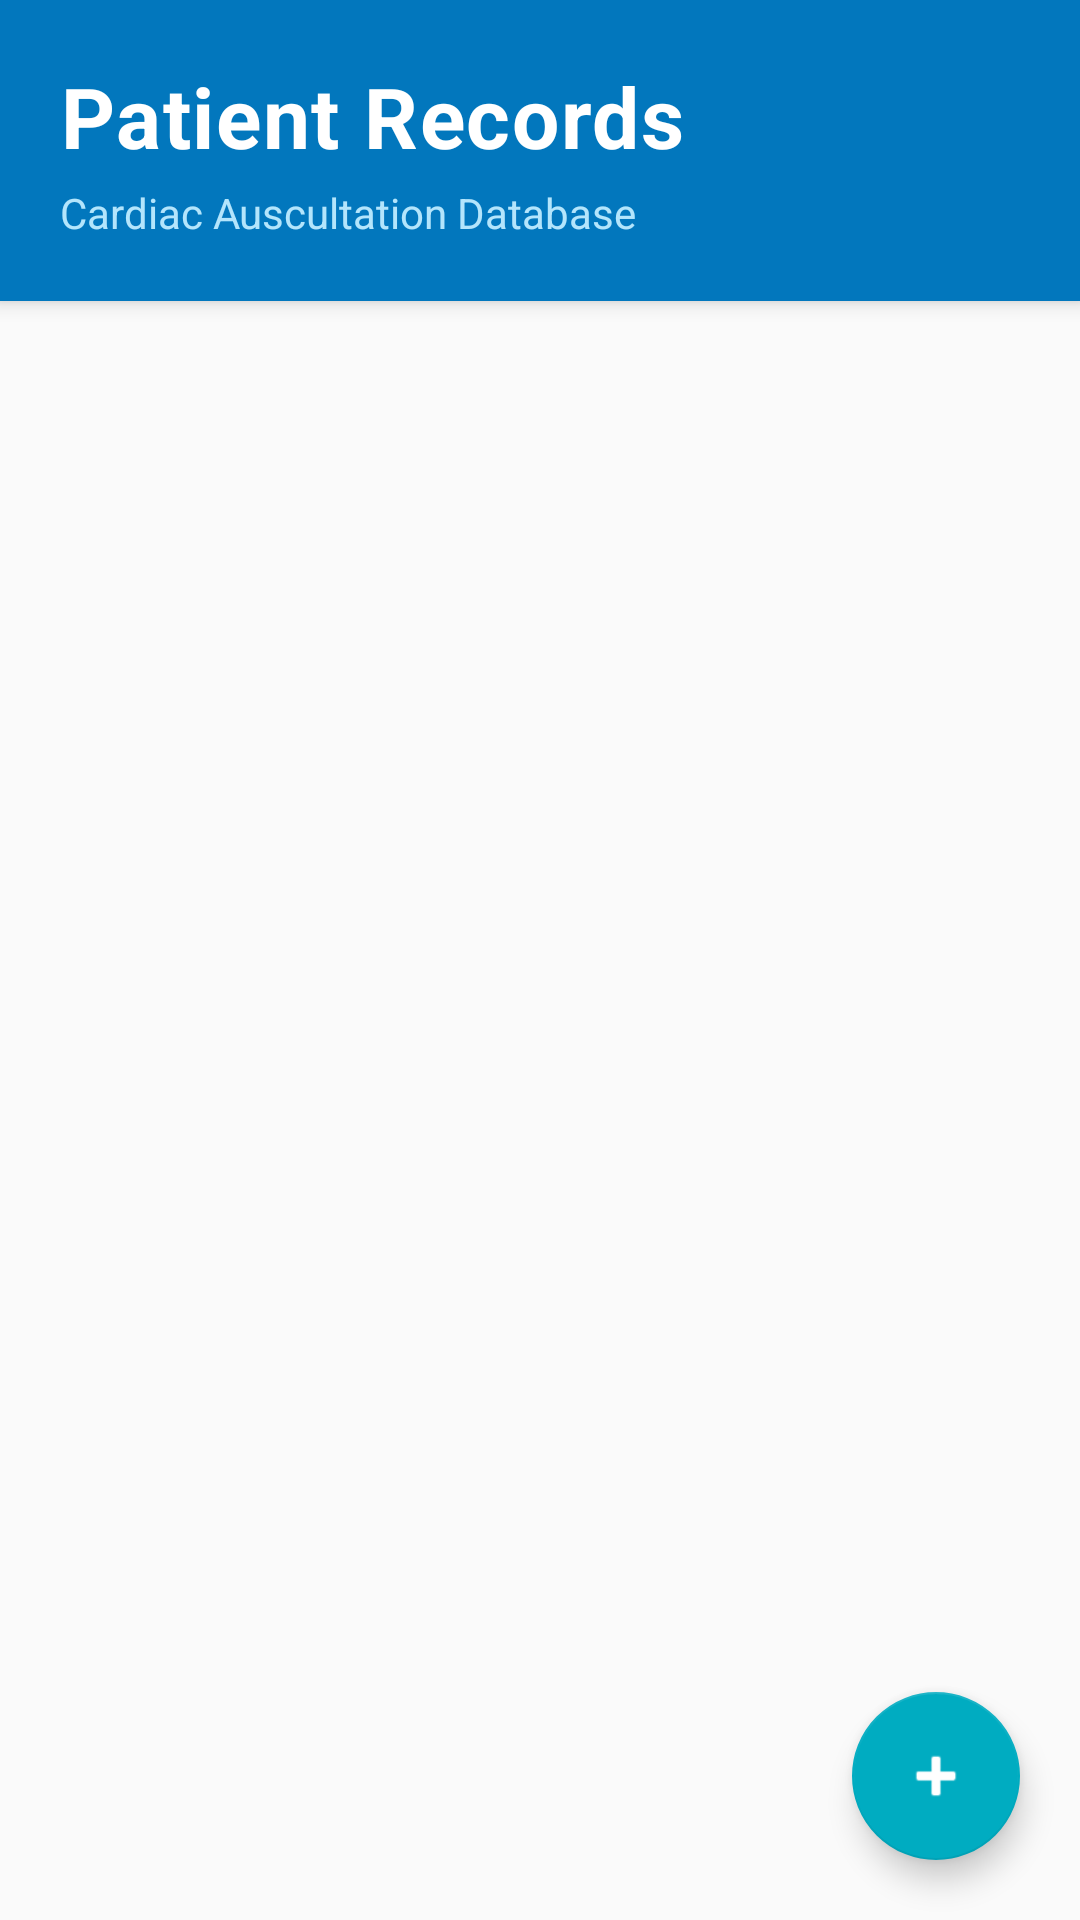

Where icons sit on this 1080px×1920px app screen, as (x1, y1, x2, y2):
Add Patient: (852, 1692, 1020, 1860)
